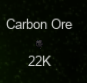Carbon: (5, 17, 74, 67)
